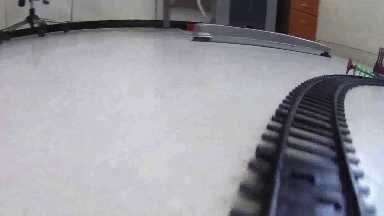tree: (344, 56, 384, 79)
